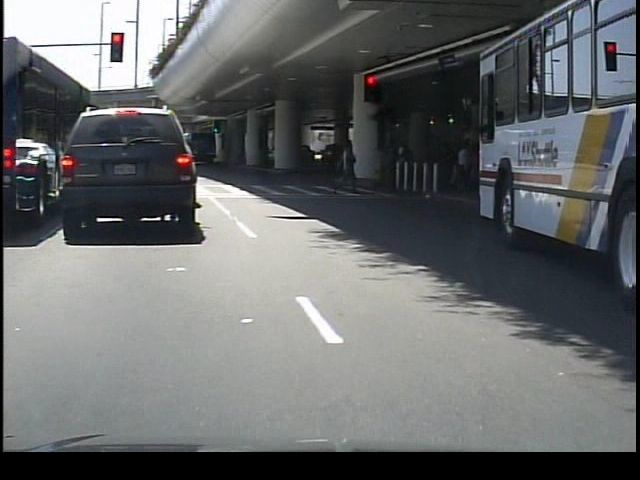person: (332, 136, 363, 198), (448, 137, 478, 196), (380, 137, 406, 193)
